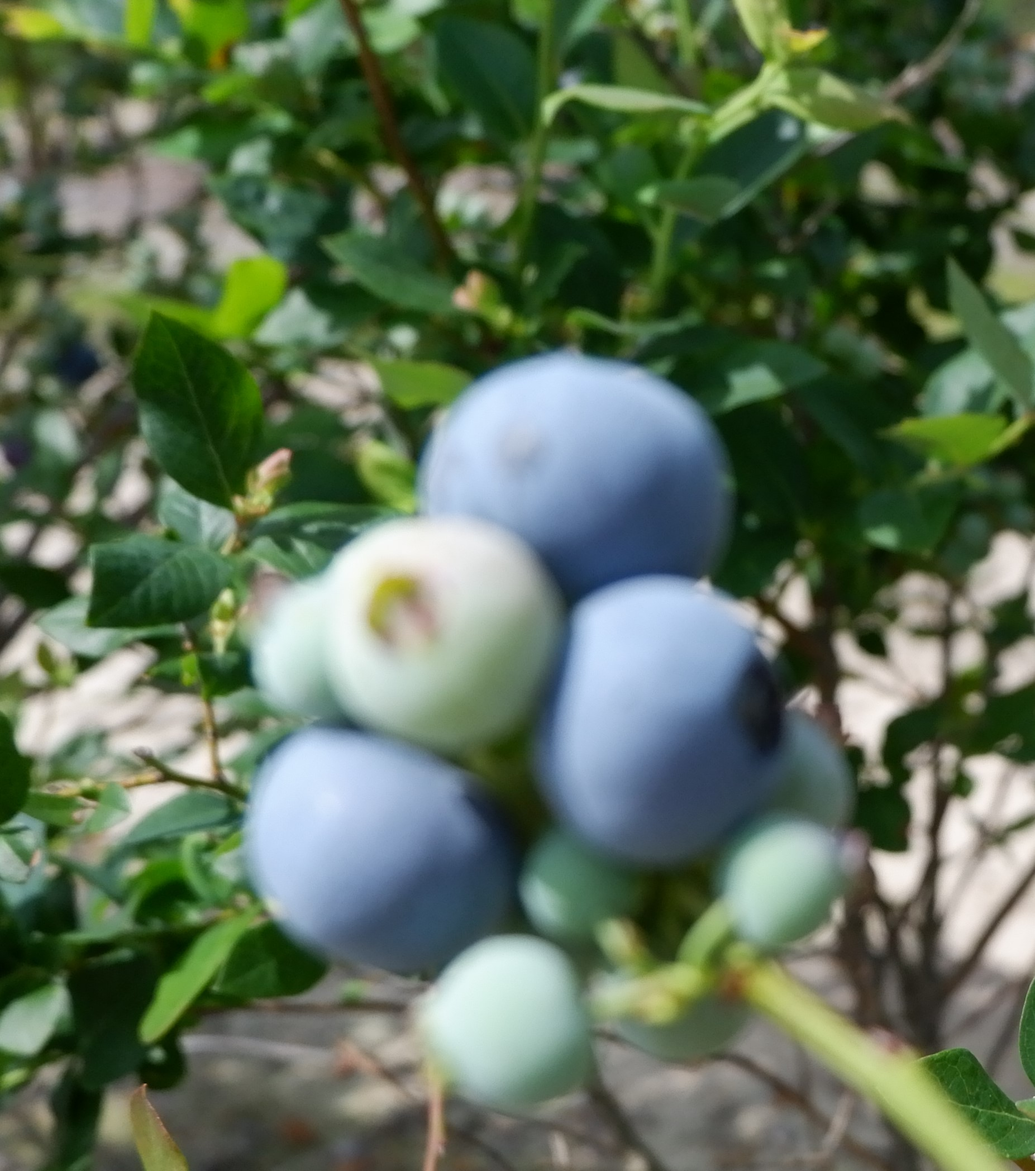Immature: (319, 522, 561, 755), (423, 940, 588, 1107), (713, 817, 840, 946), (519, 826, 655, 942), (251, 584, 331, 720)
Mature: (423, 353, 733, 596), (532, 588, 785, 864), (244, 732, 524, 974), (748, 709, 853, 827)
